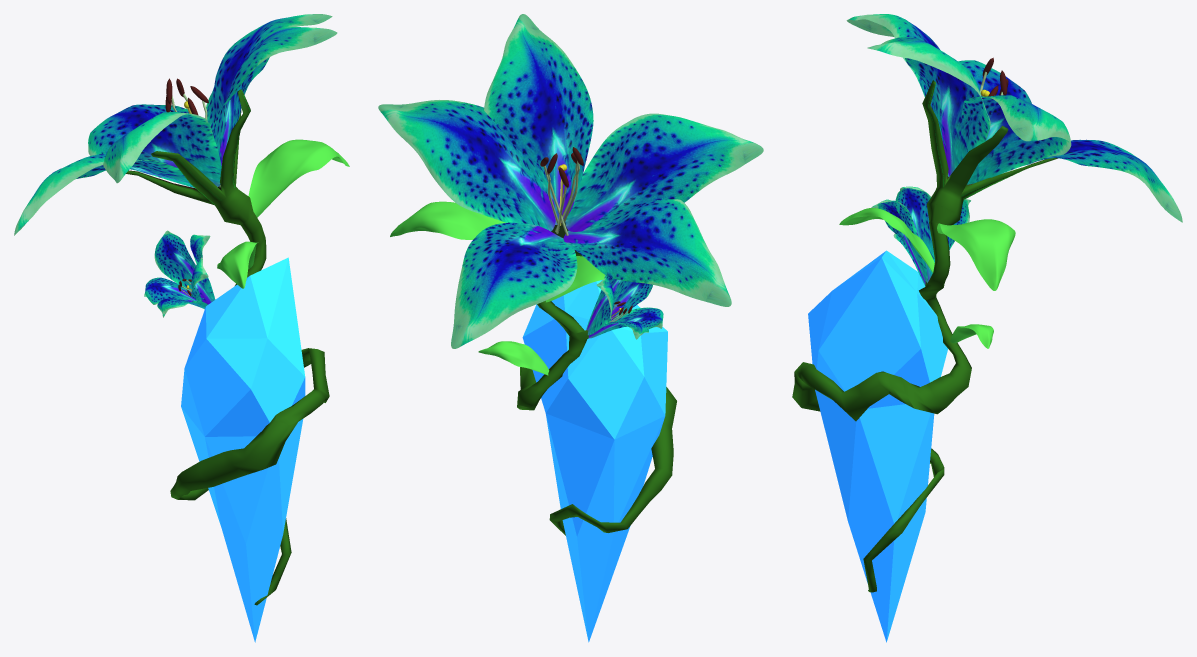
Rendered from flower_magic.glb.
3 views of the same model, side by side, from view 1: azimuth 30°, elevation 25°; view 2: azimuth 150°, elevation 25°; view 3: azimuth 270°, elevation 25° (orthographic). The views are drawn at different scales.
Parts seen in each view (by area): view 1: Gem.001_0; view 2: Gem.001_0; view 3: Gem.001_0.
Part boxes in pixels (<box>): Gem.001_0: <box>14,14,349,642</box>; Gem.001_0: <box>378,14,763,642</box>; Gem.001_0: <box>792,14,1182,642</box>.
Size of the model in its own units: 0.3667 by 0.6241 by 0.3484.
Materials: 9 (2 with a texture image).
